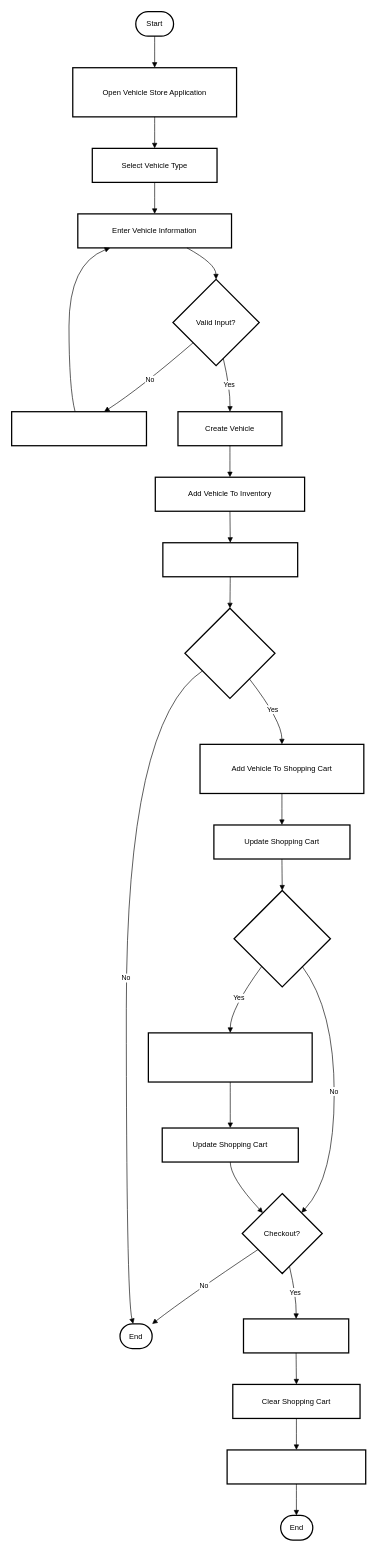
This 377x1551 diagram has some shape labels left out. Here are the shapes that lost their labels. From the top down, the centre of each, then its label:
(x=79, y=428): Display Error Message
(x=230, y=559): Update Inventory List
(x=229, y=653): Add To Cart?
(x=282, y=938): Remove Item?
(x=229, y=1057): Remove Vehicle From Shopping Cart
(x=296, y=1335): Calculate Total
(x=296, y=1466): Display Purchase Total
